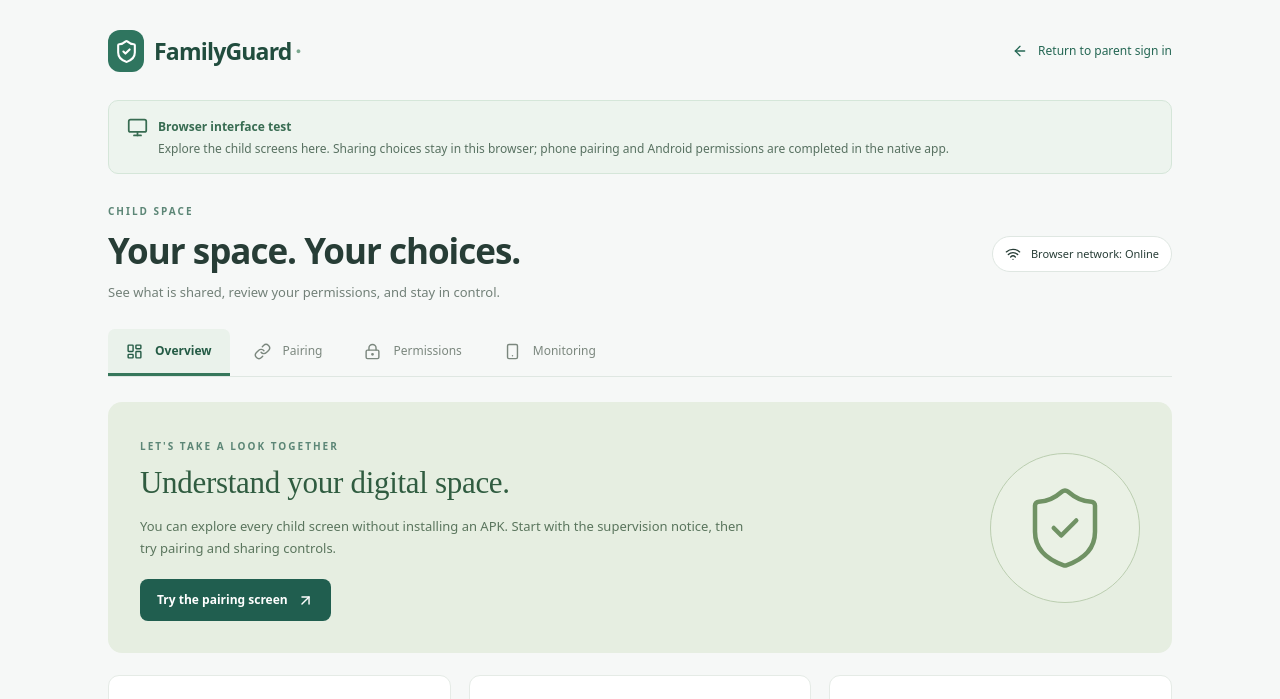
Scenario: real interface workflows › returns from child setup to parent sign in without reloading
Click the link "Return to parent sign in" at x=1092, y=51, box [1012,42,1172,60]
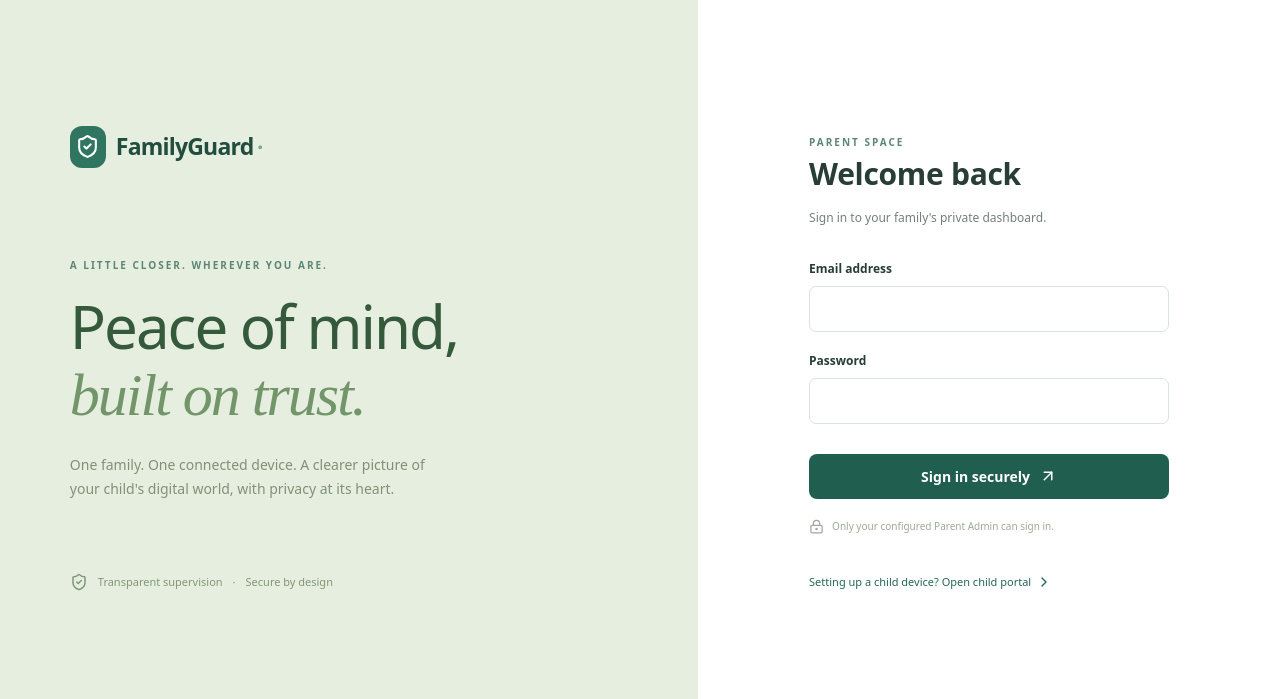
Expected: the button "Sign in securely" is shown, [809,454,1169,499]
Click the link "Setting up a child device? Open child portal" at x=931, y=582, box [809,574,1052,590]
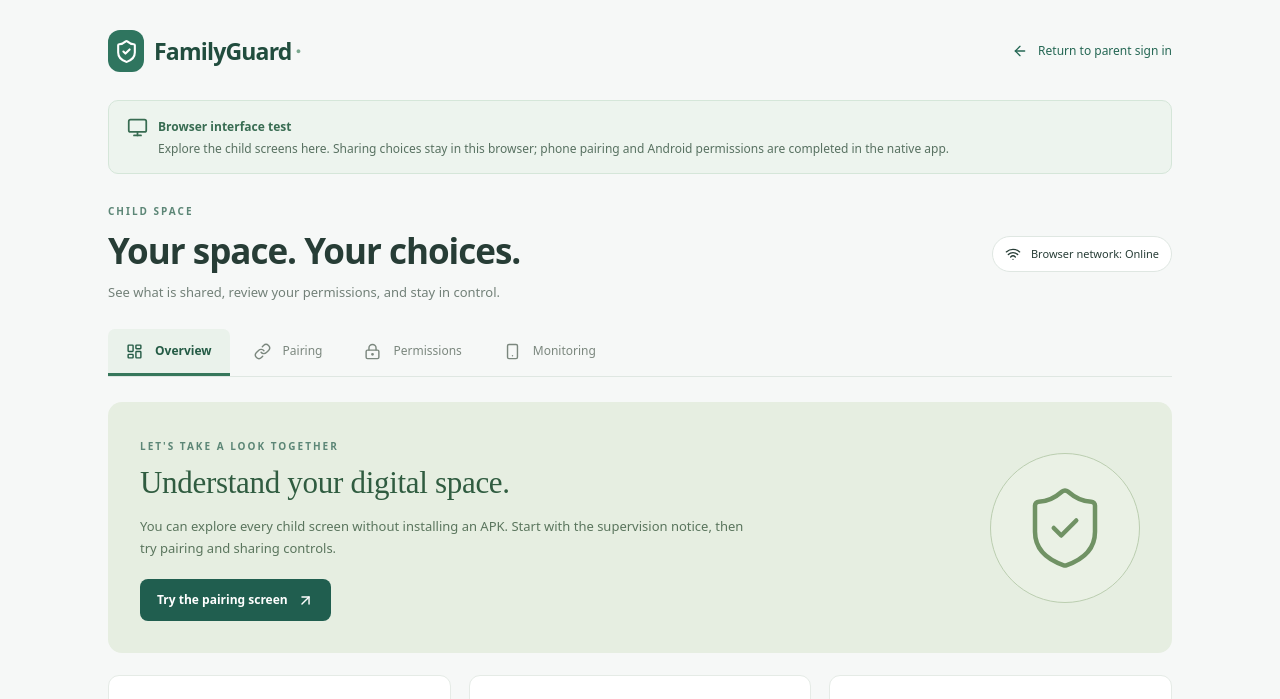
Expected: the link "Return to parent sign in" is shown, [1012,42,1172,60]
